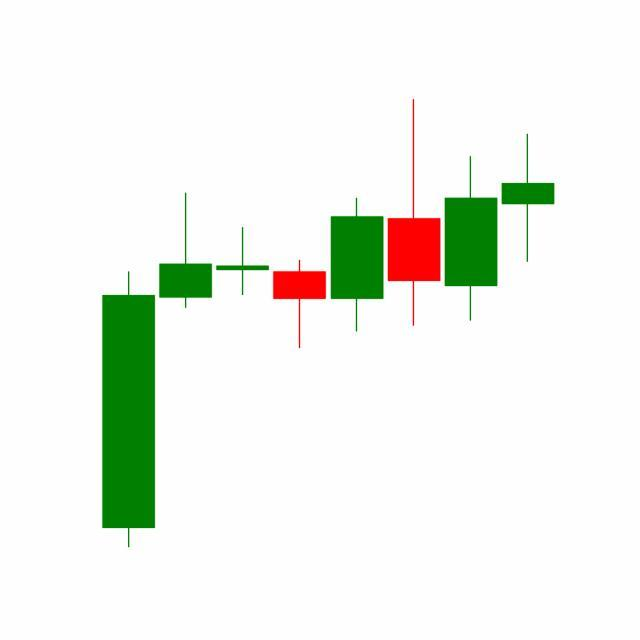Hikkake Pattern: (270, 100, 555, 353)
